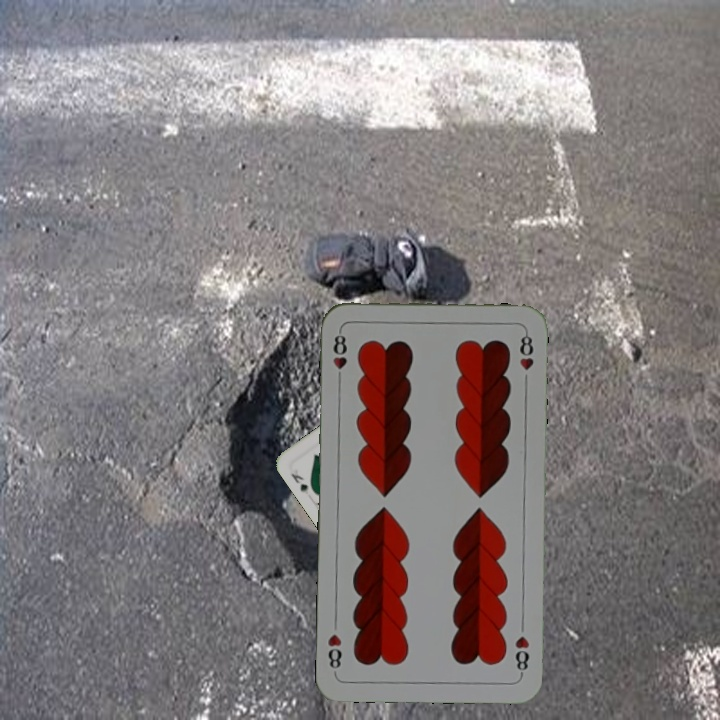GK: (287, 469, 311, 497)
H8: (328, 326, 350, 385), (511, 632, 532, 678)
